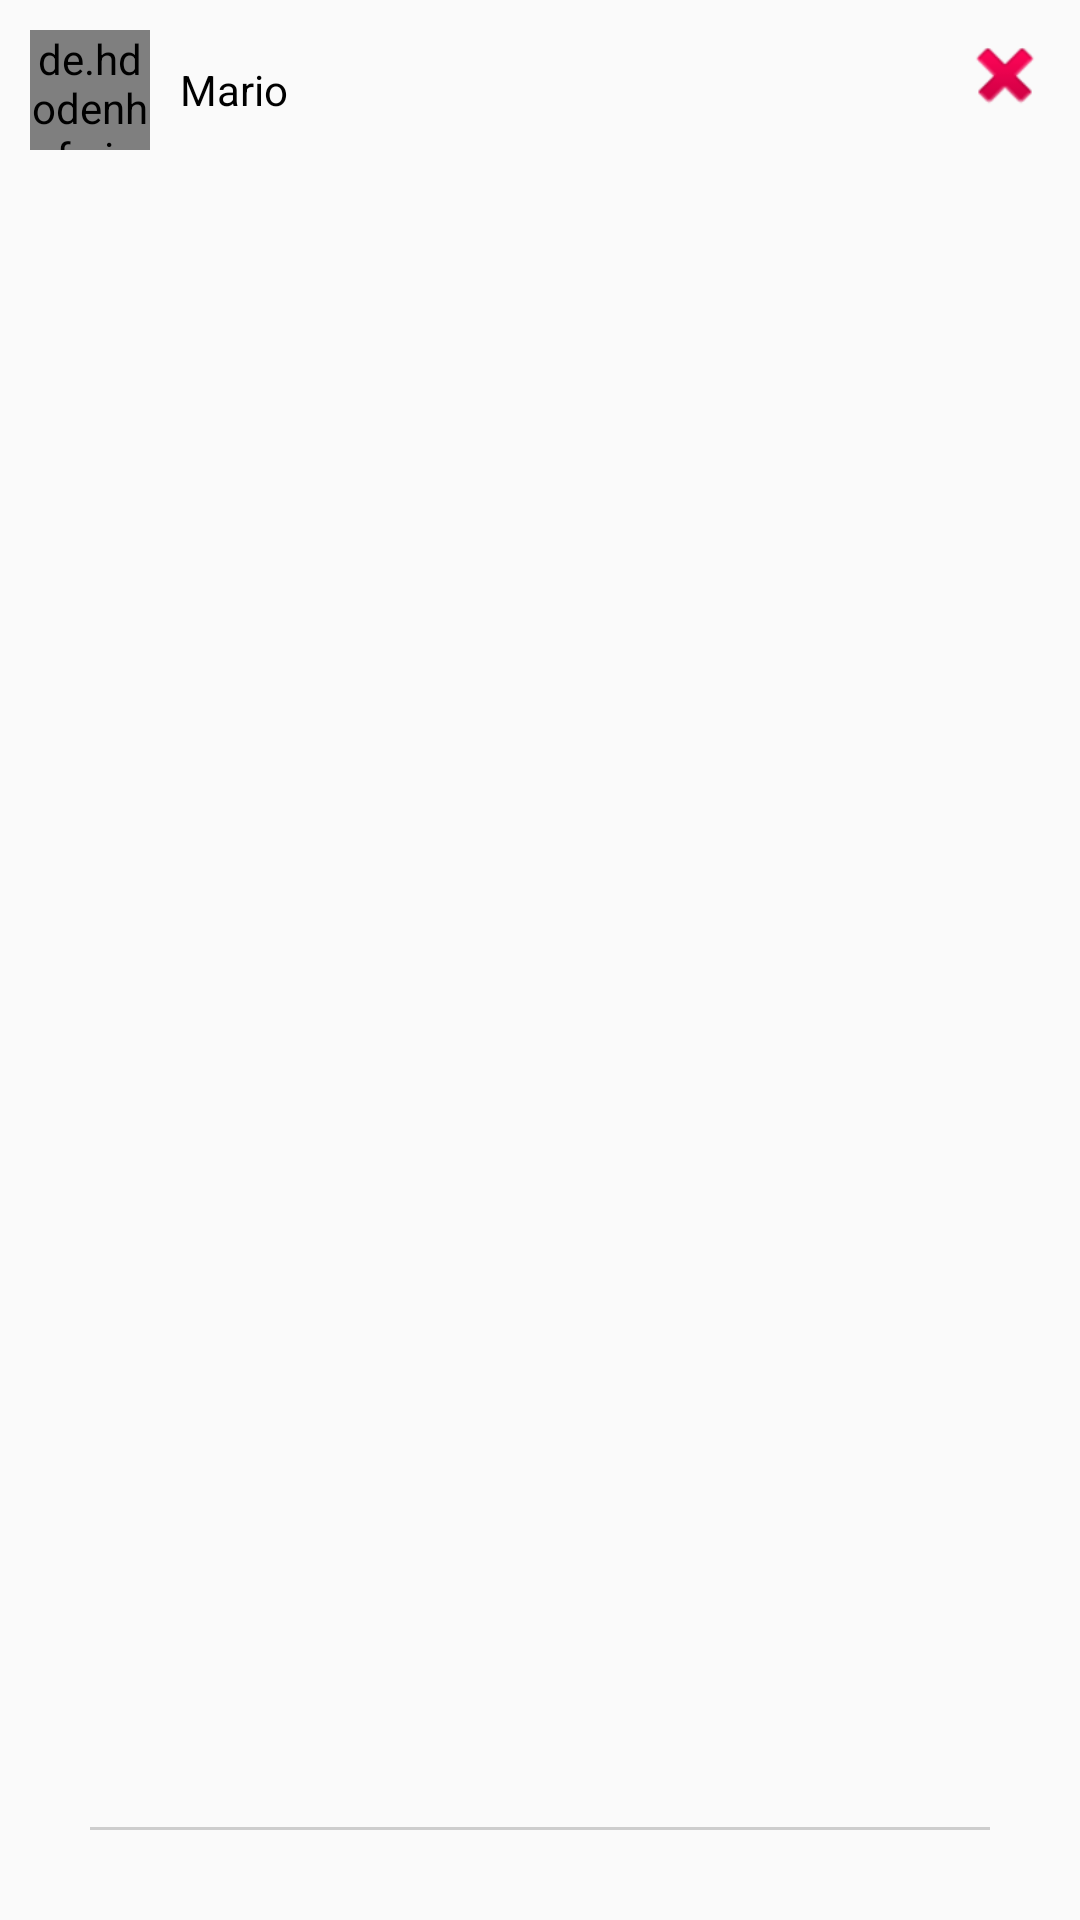

Locate icon controls on the screen. Image size 1080px x 1920px, boxes as BBox(x1, y1, x2, y2).
delete: BBox(976, 48, 1034, 103)
